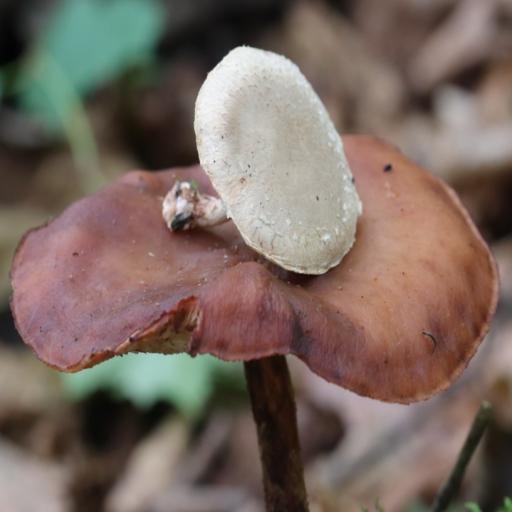Shiitake Mushroom: (9, 20, 503, 512)
